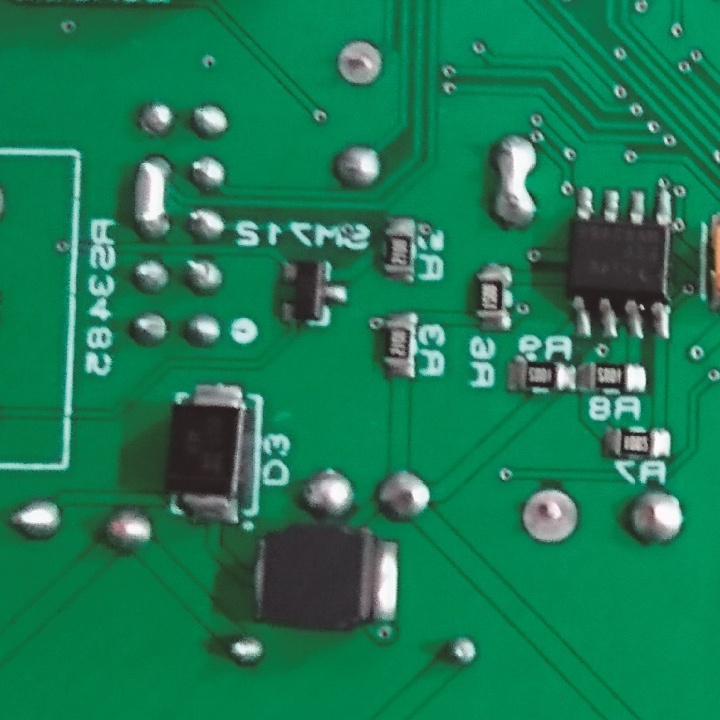F: (520, 484, 583, 548), (335, 38, 383, 89)
P: (489, 131, 541, 229), (128, 150, 177, 242)
